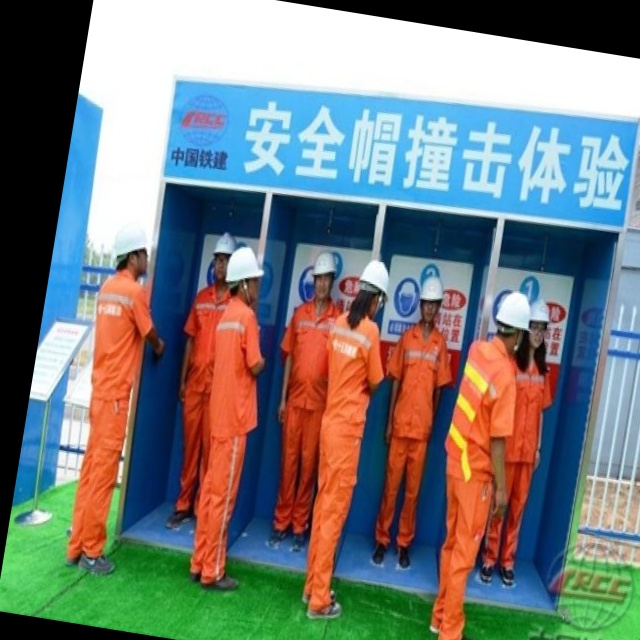Con_Casco: (223, 243, 268, 298), (492, 290, 533, 348), (354, 259, 392, 320), (310, 248, 341, 302), (417, 274, 445, 326)
Con_Chaleco: (445, 342, 521, 487)
